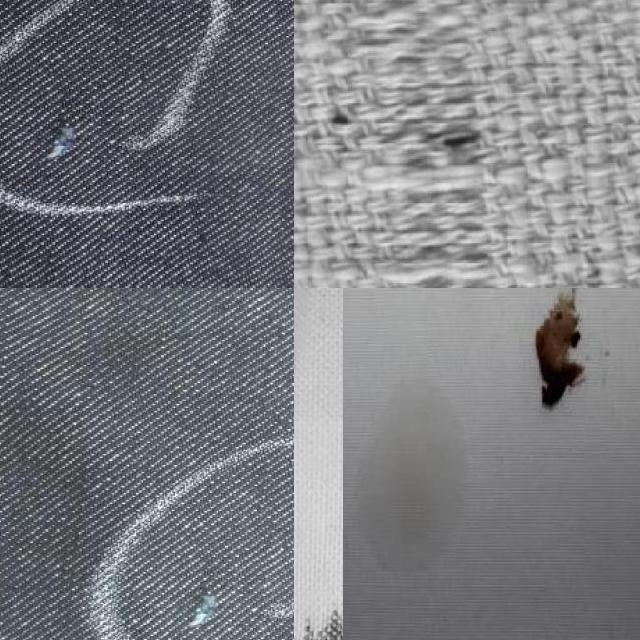Thread_other: (342, 356, 507, 618), (518, 288, 640, 460)
stains: (294, 0, 612, 288), (0, 57, 128, 187), (142, 525, 270, 640)
